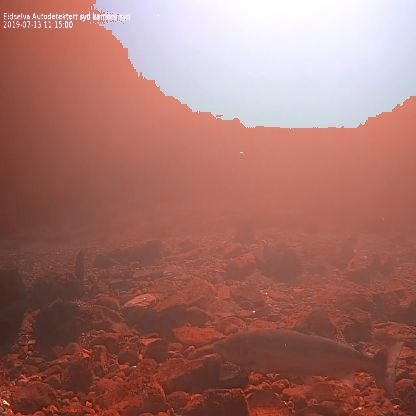salmon: (208, 320, 407, 404)
